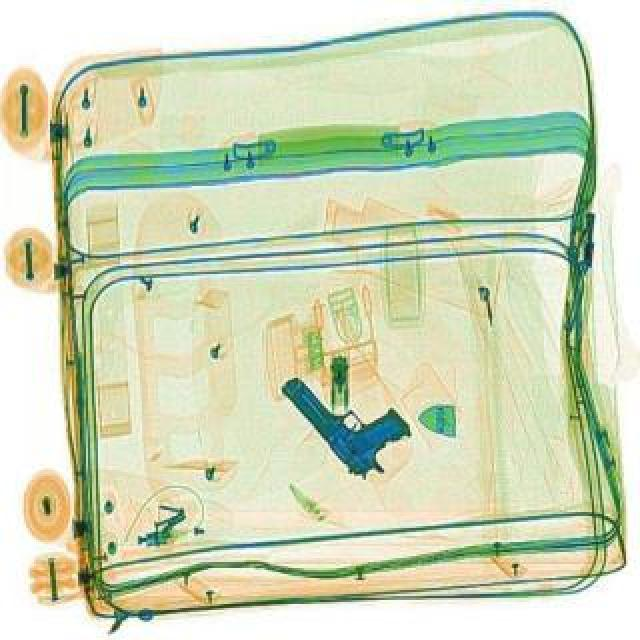gun: (274, 340, 426, 484)
